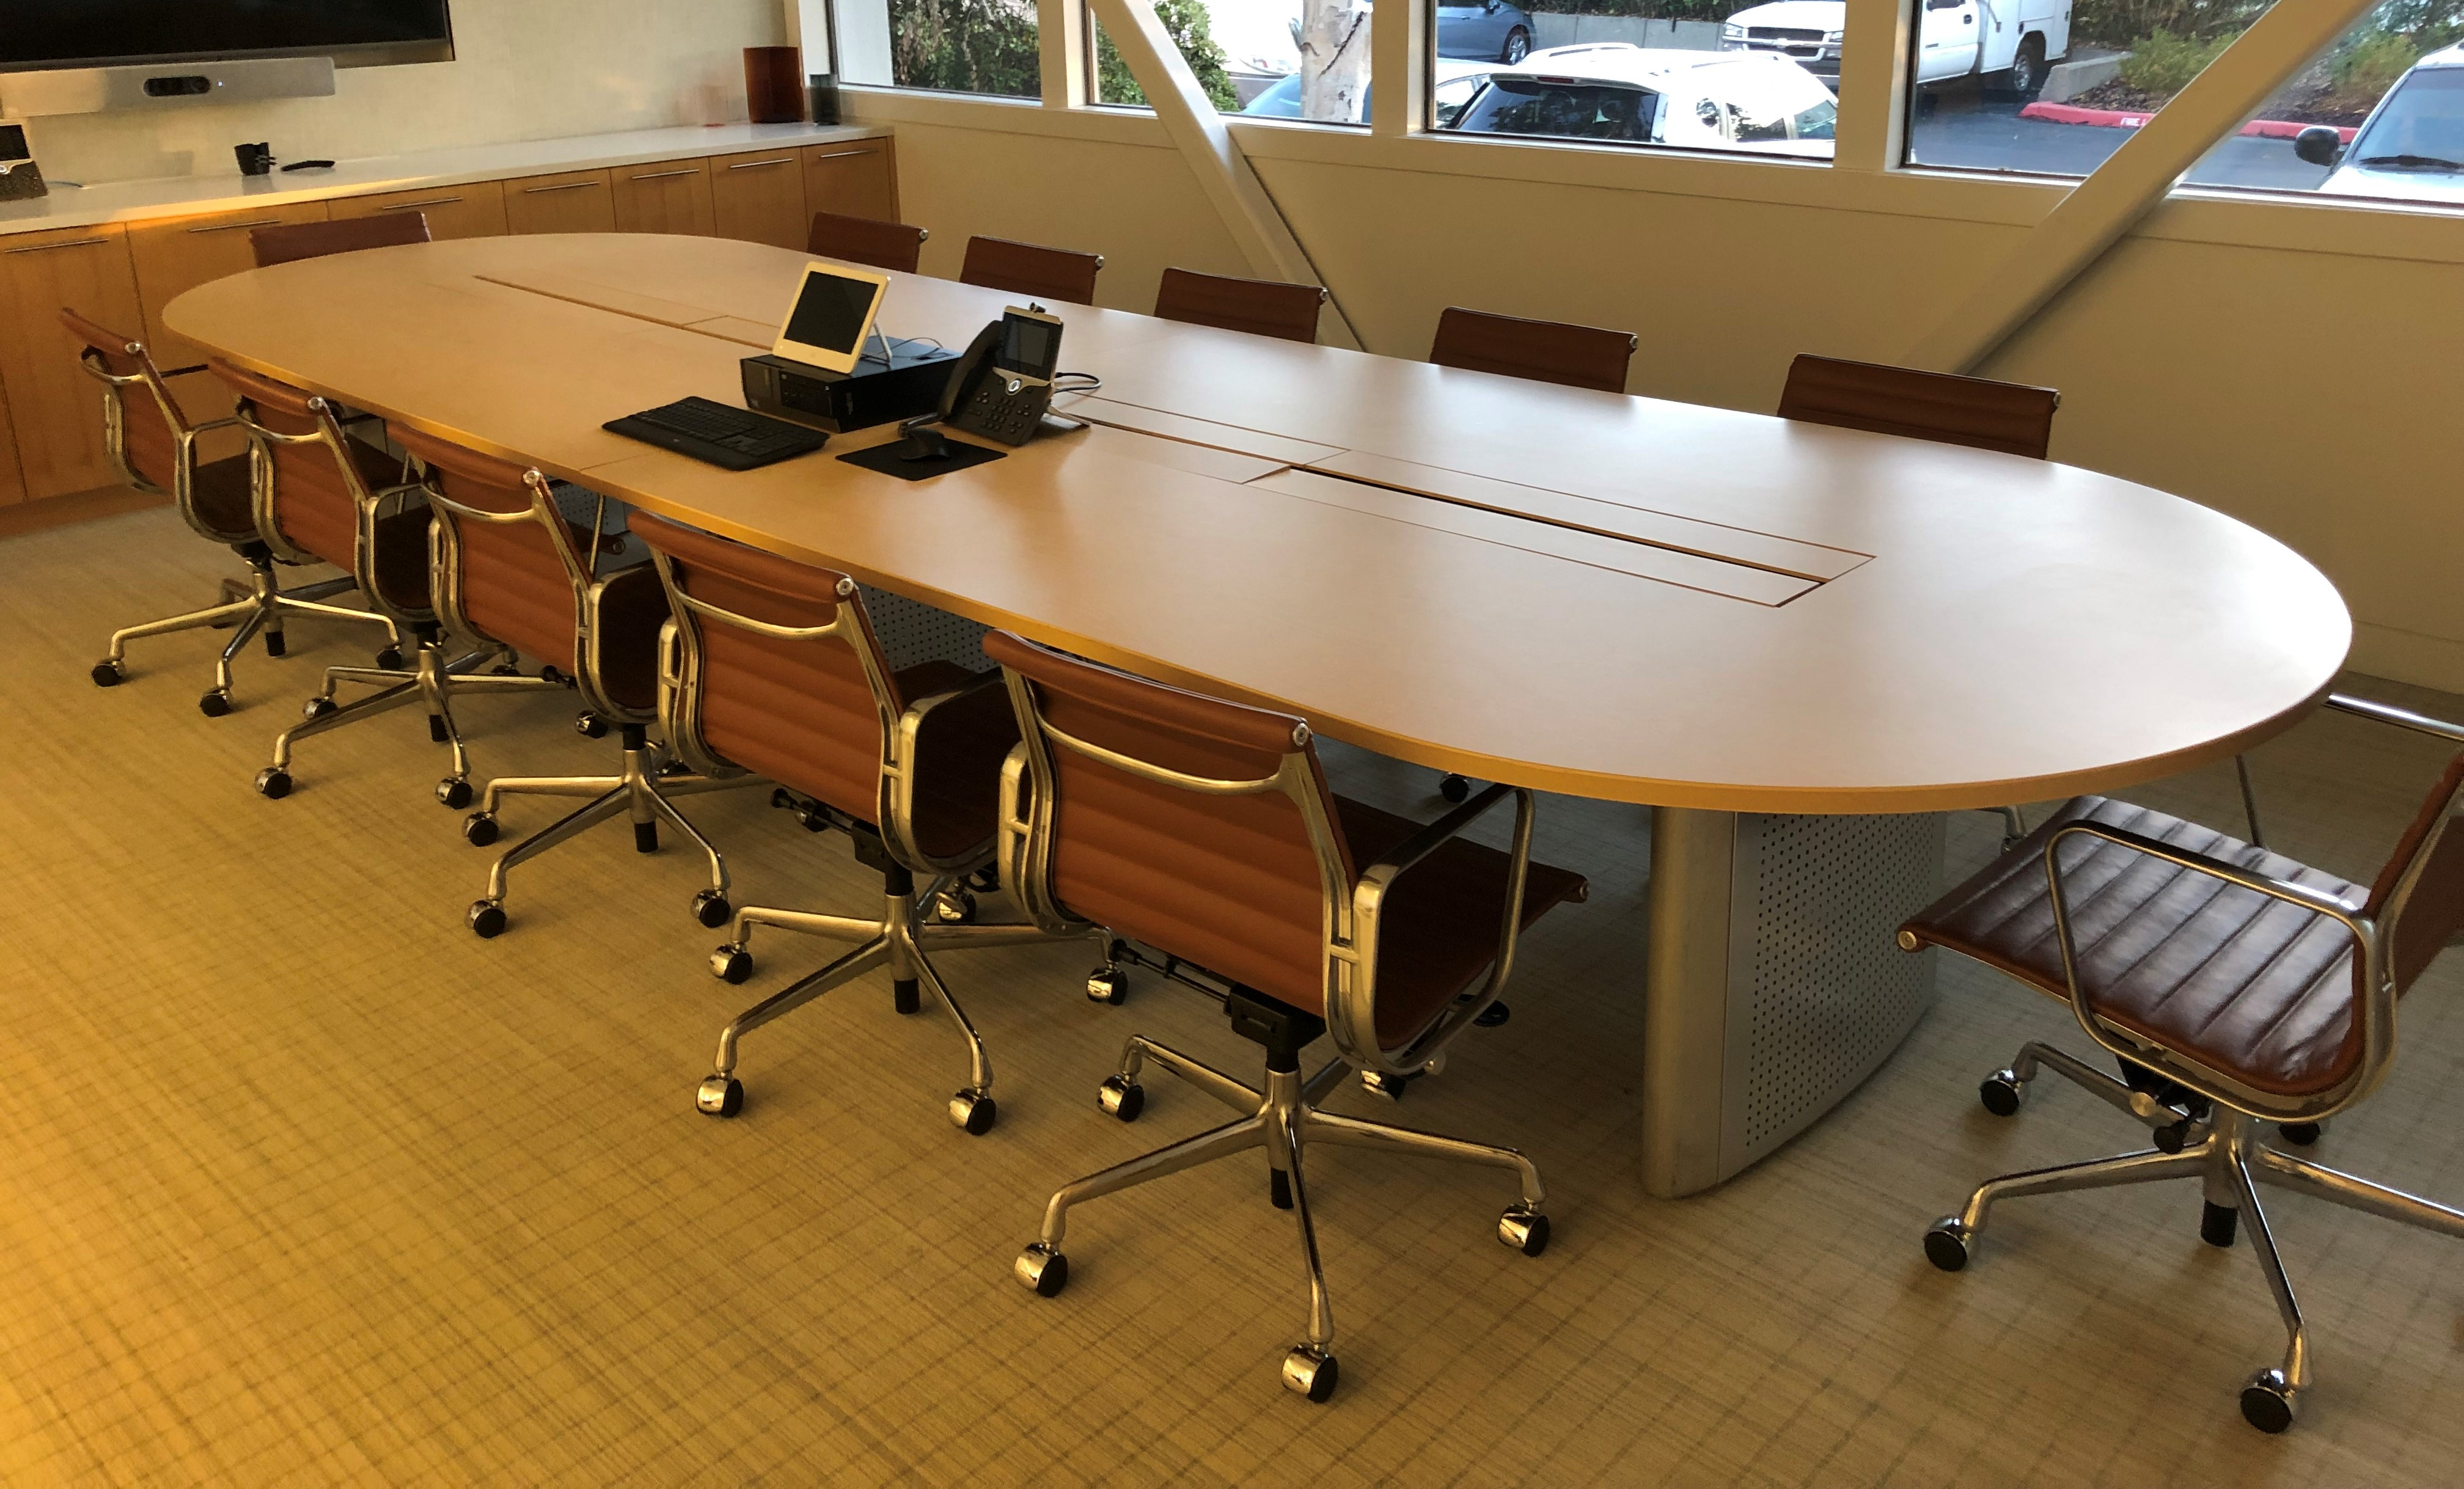conference_table: (159, 230, 2352, 1199)
